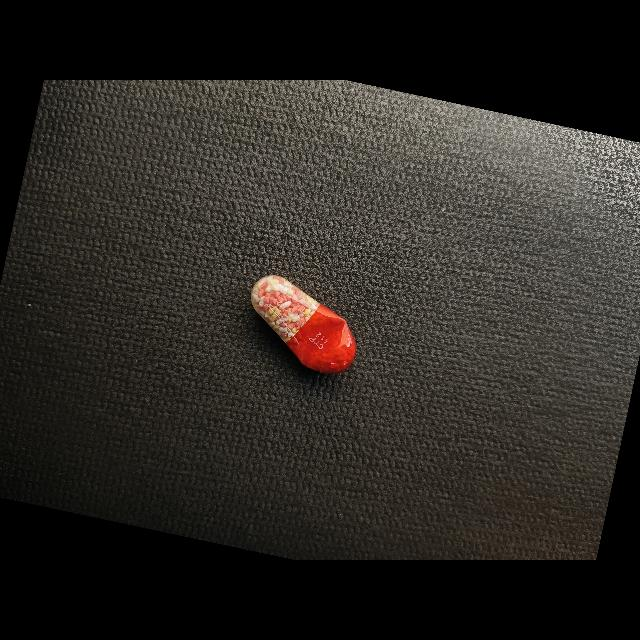Defective Capsule: (251, 275, 356, 374)
